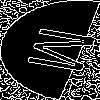M: (25, 25, 100, 78)
